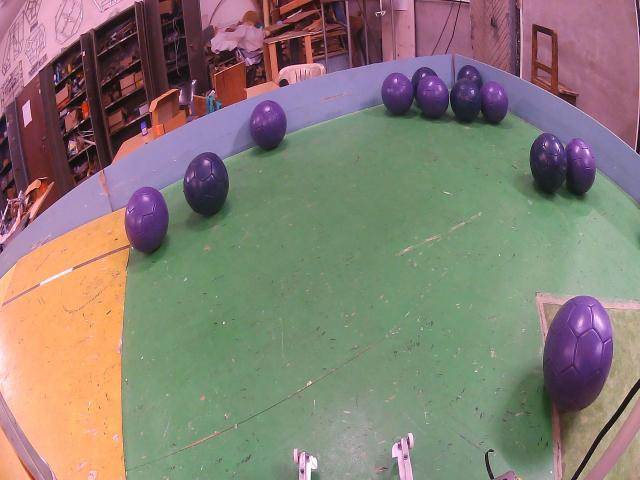jambhalya: (544, 295, 612, 412), (125, 187, 169, 253), (250, 100, 286, 150), (565, 138, 596, 194), (416, 75, 449, 118), (381, 73, 414, 115), (480, 82, 509, 123)
kaalyya: (184, 152, 229, 215), (530, 133, 568, 193), (450, 78, 481, 122), (411, 67, 436, 99), (458, 65, 482, 90)
